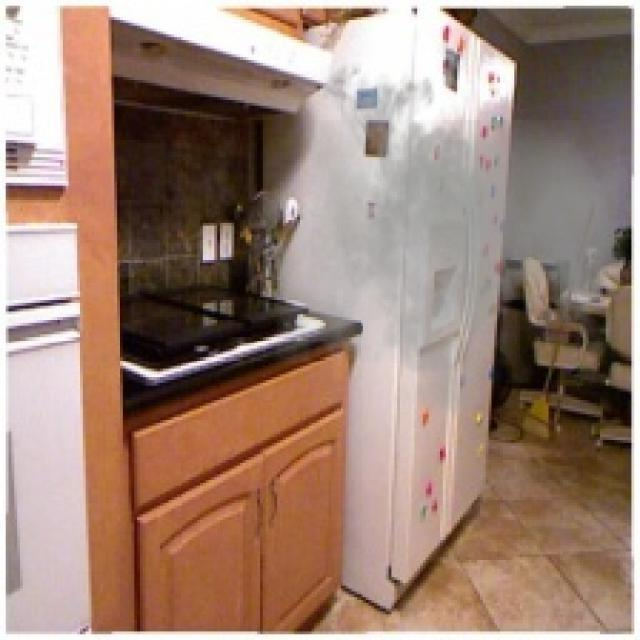Smoke: (274, 51, 629, 432)
